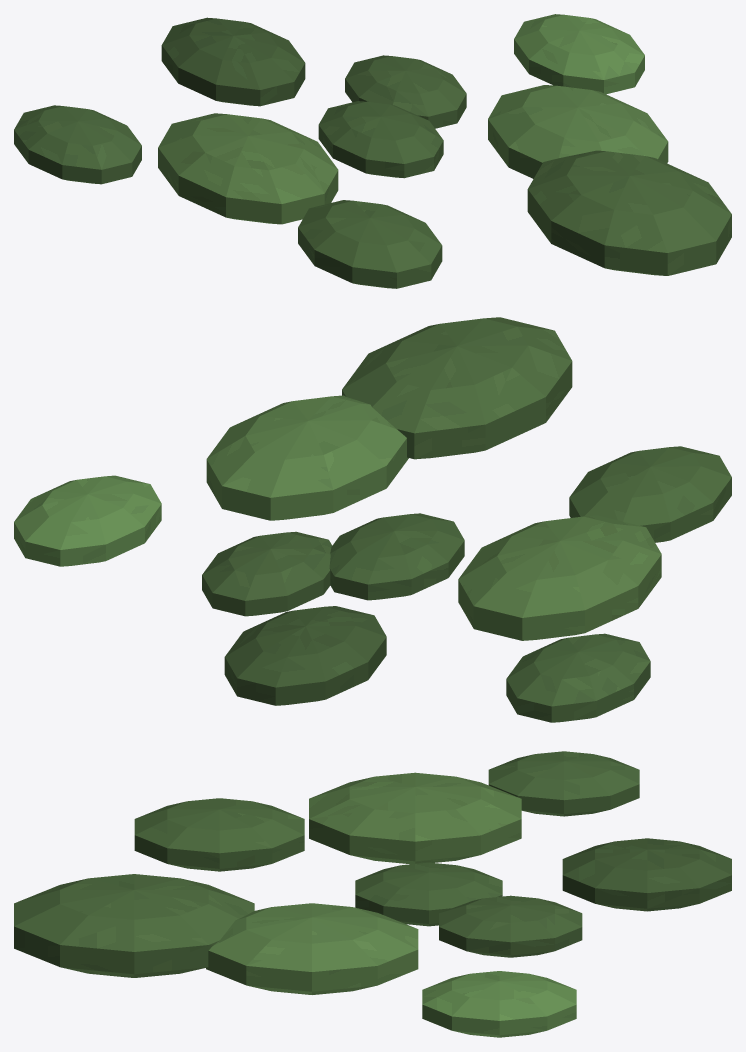
The model's file is seed_pea.glb.
3 renders of one model, top to bottom at view 1: azimuth 30°, elevation 25°; view 2: azimuth 150°, elevation 25°; view 3: azimuth 270°, elevation 25°, orthographic. The views are drawn at different scales.
Visible parts, largest first — view 1: block_grain 8, block_grain 2, block_grain 3, block_grain 5, block_grain 4, block_grain 6, block_grain 7, block_grain 0, block_grain 1; view 2: block_grain 8, block_grain 2, block_grain 3, block_grain 4, block_grain 5, block_grain 6, block_grain 7, block_grain 0, block_grain 1; view 3: block_grain 8, block_grain 2, block_grain 3, block_grain 5, block_grain 4, block_grain 6, block_grain 7, block_grain 1, block_grain 0.
Boxes of the visible parts, bbox=[...] form: block_grain 8: bbox=[527, 150, 731, 275]; block_grain 2: bbox=[158, 113, 338, 224]; block_grain 3: bbox=[488, 85, 668, 178]; block_grain 5: bbox=[298, 200, 442, 288]; block_grain 4: bbox=[161, 17, 305, 106]; block_grain 6: bbox=[514, 14, 644, 94]; block_grain 7: bbox=[14, 105, 141, 184]; block_grain 0: bbox=[318, 101, 443, 178]; block_grain 1: bbox=[345, 55, 466, 128]; block_grain 8: bbox=[342, 317, 572, 459]; block_grain 2: bbox=[458, 515, 661, 640]; block_grain 3: bbox=[206, 395, 408, 520]; block_grain 4: bbox=[224, 606, 386, 705]; block_grain 5: bbox=[569, 446, 731, 542]; block_grain 6: bbox=[14, 475, 161, 566]; block_grain 7: bbox=[506, 633, 650, 722]; block_grain 0: bbox=[329, 513, 464, 600]; block_grain 1: bbox=[202, 531, 332, 616]; block_grain 8: bbox=[14, 874, 254, 977]; block_grain 2: bbox=[309, 772, 521, 864]; block_grain 3: bbox=[206, 903, 418, 994]; block_grain 5: bbox=[134, 798, 304, 871]; block_grain 4: bbox=[562, 838, 731, 911]; block_grain 6: bbox=[422, 971, 576, 1037]; block_grain 7: bbox=[488, 751, 639, 816]; block_grain 1: bbox=[439, 895, 582, 957]; block_grain 0: bbox=[355, 862, 502, 926].
Size of the model in its own units: 0.0381 by 0.00478 by 0.0432.
1 material, 1 textured.
